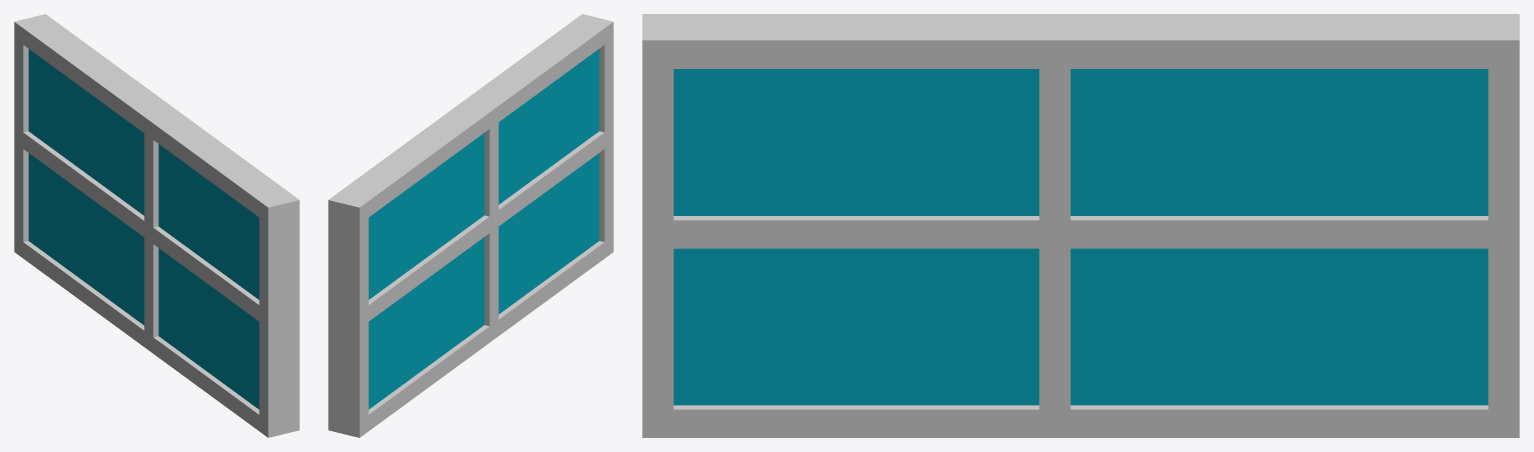
Rendered from big_window.glb.
3 renders of one model, left to right at view 1: azimuth 30°, elevation 25°; view 2: azimuth 150°, elevation 25°; view 3: azimuth 270°, elevation 25°, orthographic. The views are drawn at different scales.
Parts seen in each view (by area): view 1: Mesh_Mesh_head_geo.001_lambert2SG.001; view 2: Mesh_Mesh_head_geo.001_lambert2SG.001; view 3: Mesh_Mesh_head_geo.001_lambert2SG.001.
Boxes of the visible parts, x1=… form: Mesh_Mesh_head_geo.001_lambert2SG.001: x1=14, y1=14, x2=299, y2=437; Mesh_Mesh_head_geo.001_lambert2SG.001: x1=328, y1=14, x2=613, y2=437; Mesh_Mesh_head_geo.001_lambert2SG.001: x1=642, y1=14, x2=1519, y2=437.
Size of the model in its own units: 6 by 42 by 84.
